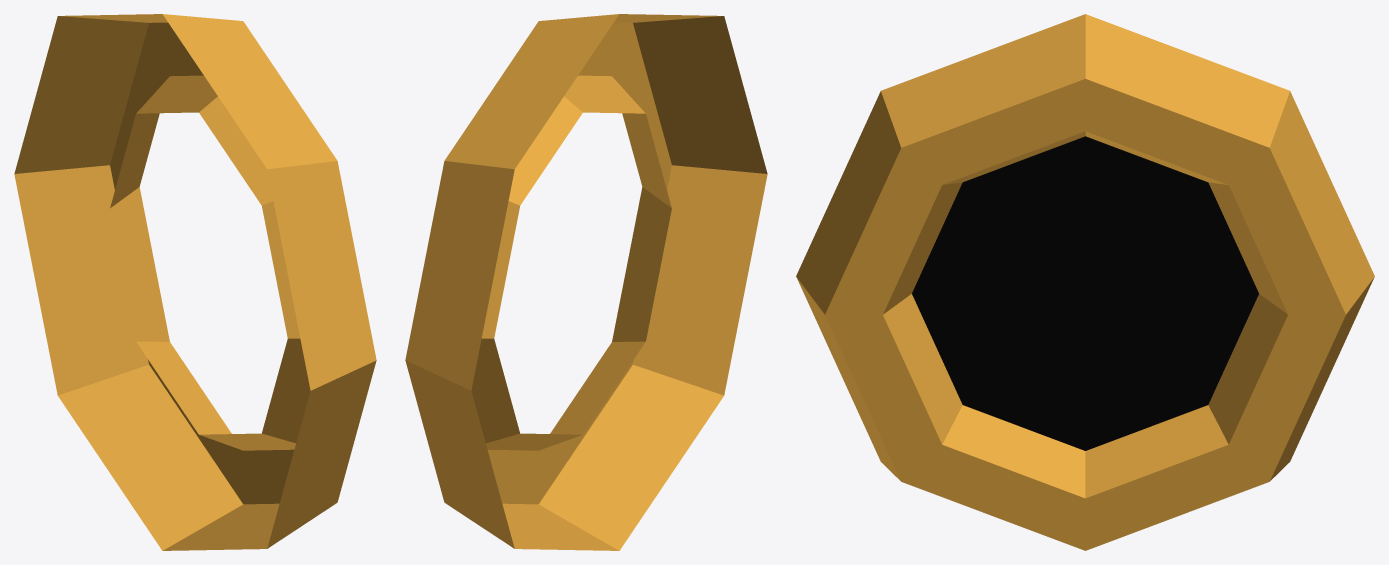
The model's file is ArrowHole.fbx.
The picture shows the model from 3 angles, left to right: view 1: azimuth 30°, elevation 25°; view 2: azimuth 150°, elevation 25°; view 3: azimuth 270°, elevation 25°; orthographic projection. The views are drawn at different scales.
Visible parts, largest first — view 1: Torus; view 2: Torus; view 3: Torus.
Boxes of the visible parts, left/top/right/bottom form: Torus: left=14, top=14, right=376, bottom=550; Torus: left=405, top=14, right=767, bottom=550; Torus: left=796, top=14, right=1374, bottom=550.
Bounding box in the file's own units: 2.49 × 15.83 × 15.83.
